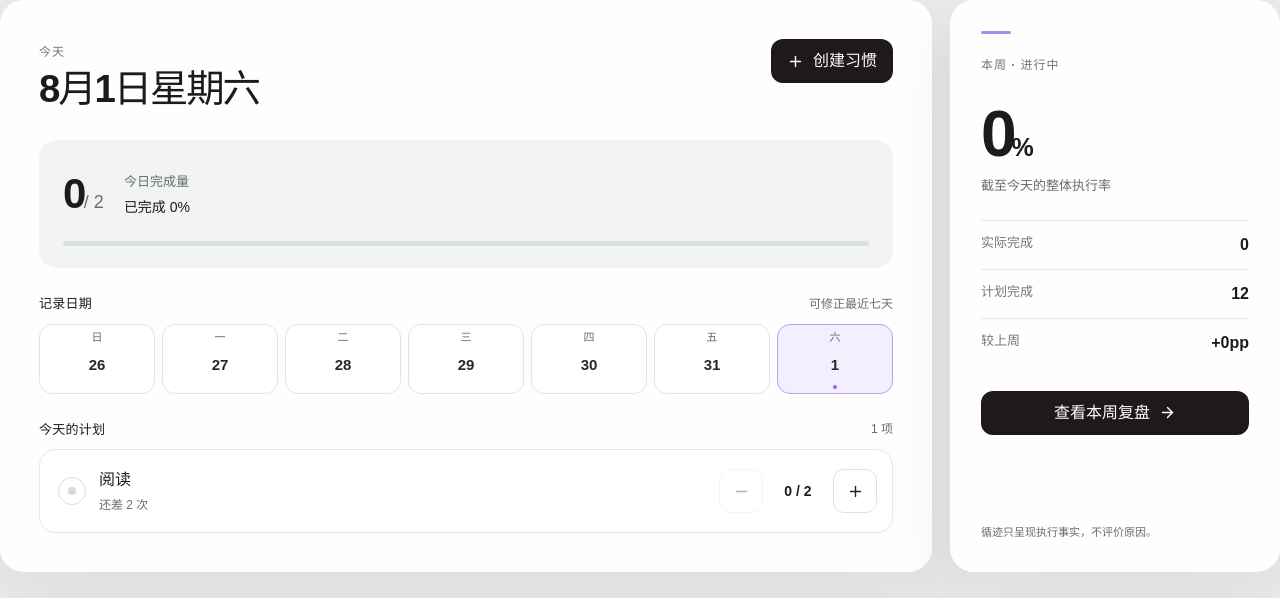
TodayPage account writes › keeps a recent-day count confirmed and reusable when the account commit resolves false
This screenshot has width=1280, height=598.
Click the button named "2026-07-27，修正漏记": [220, 359] box [162,324,278,394]
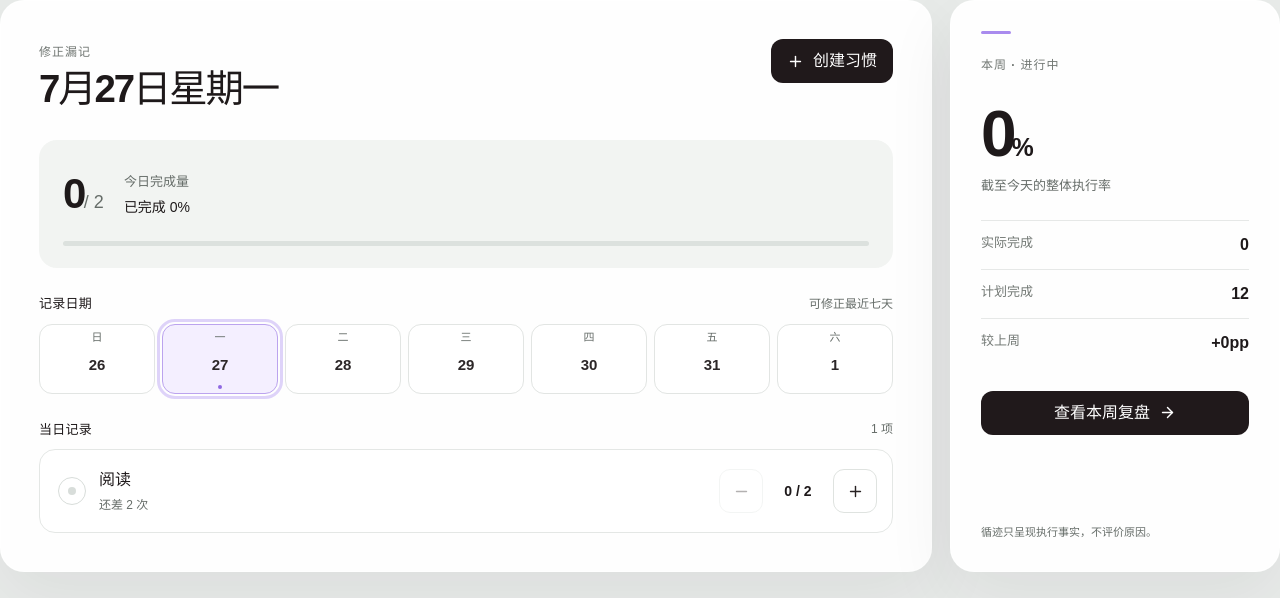
Click the button named "阅读，增加一次": [855, 491] box [833,469,877,513]
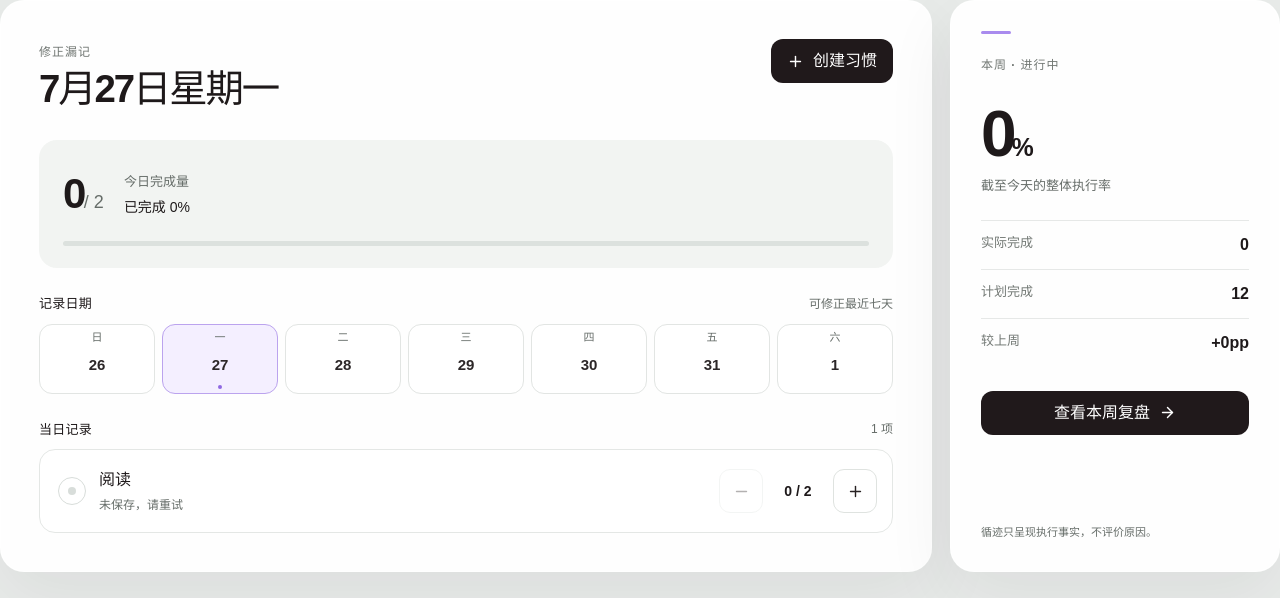
Check: the text "0 / 2" is shown, box [784,483,812,499]
Check: the text "未保存，请重试" is shown, box [99,496,183,514]
